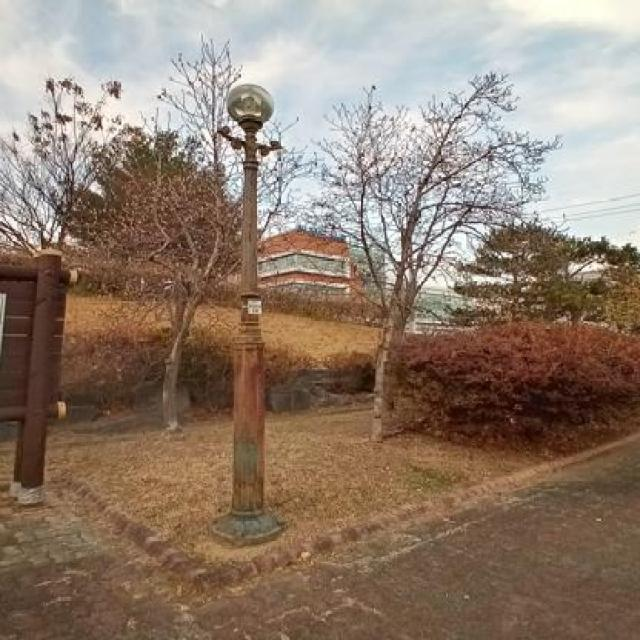pole: (201, 72, 294, 552)
